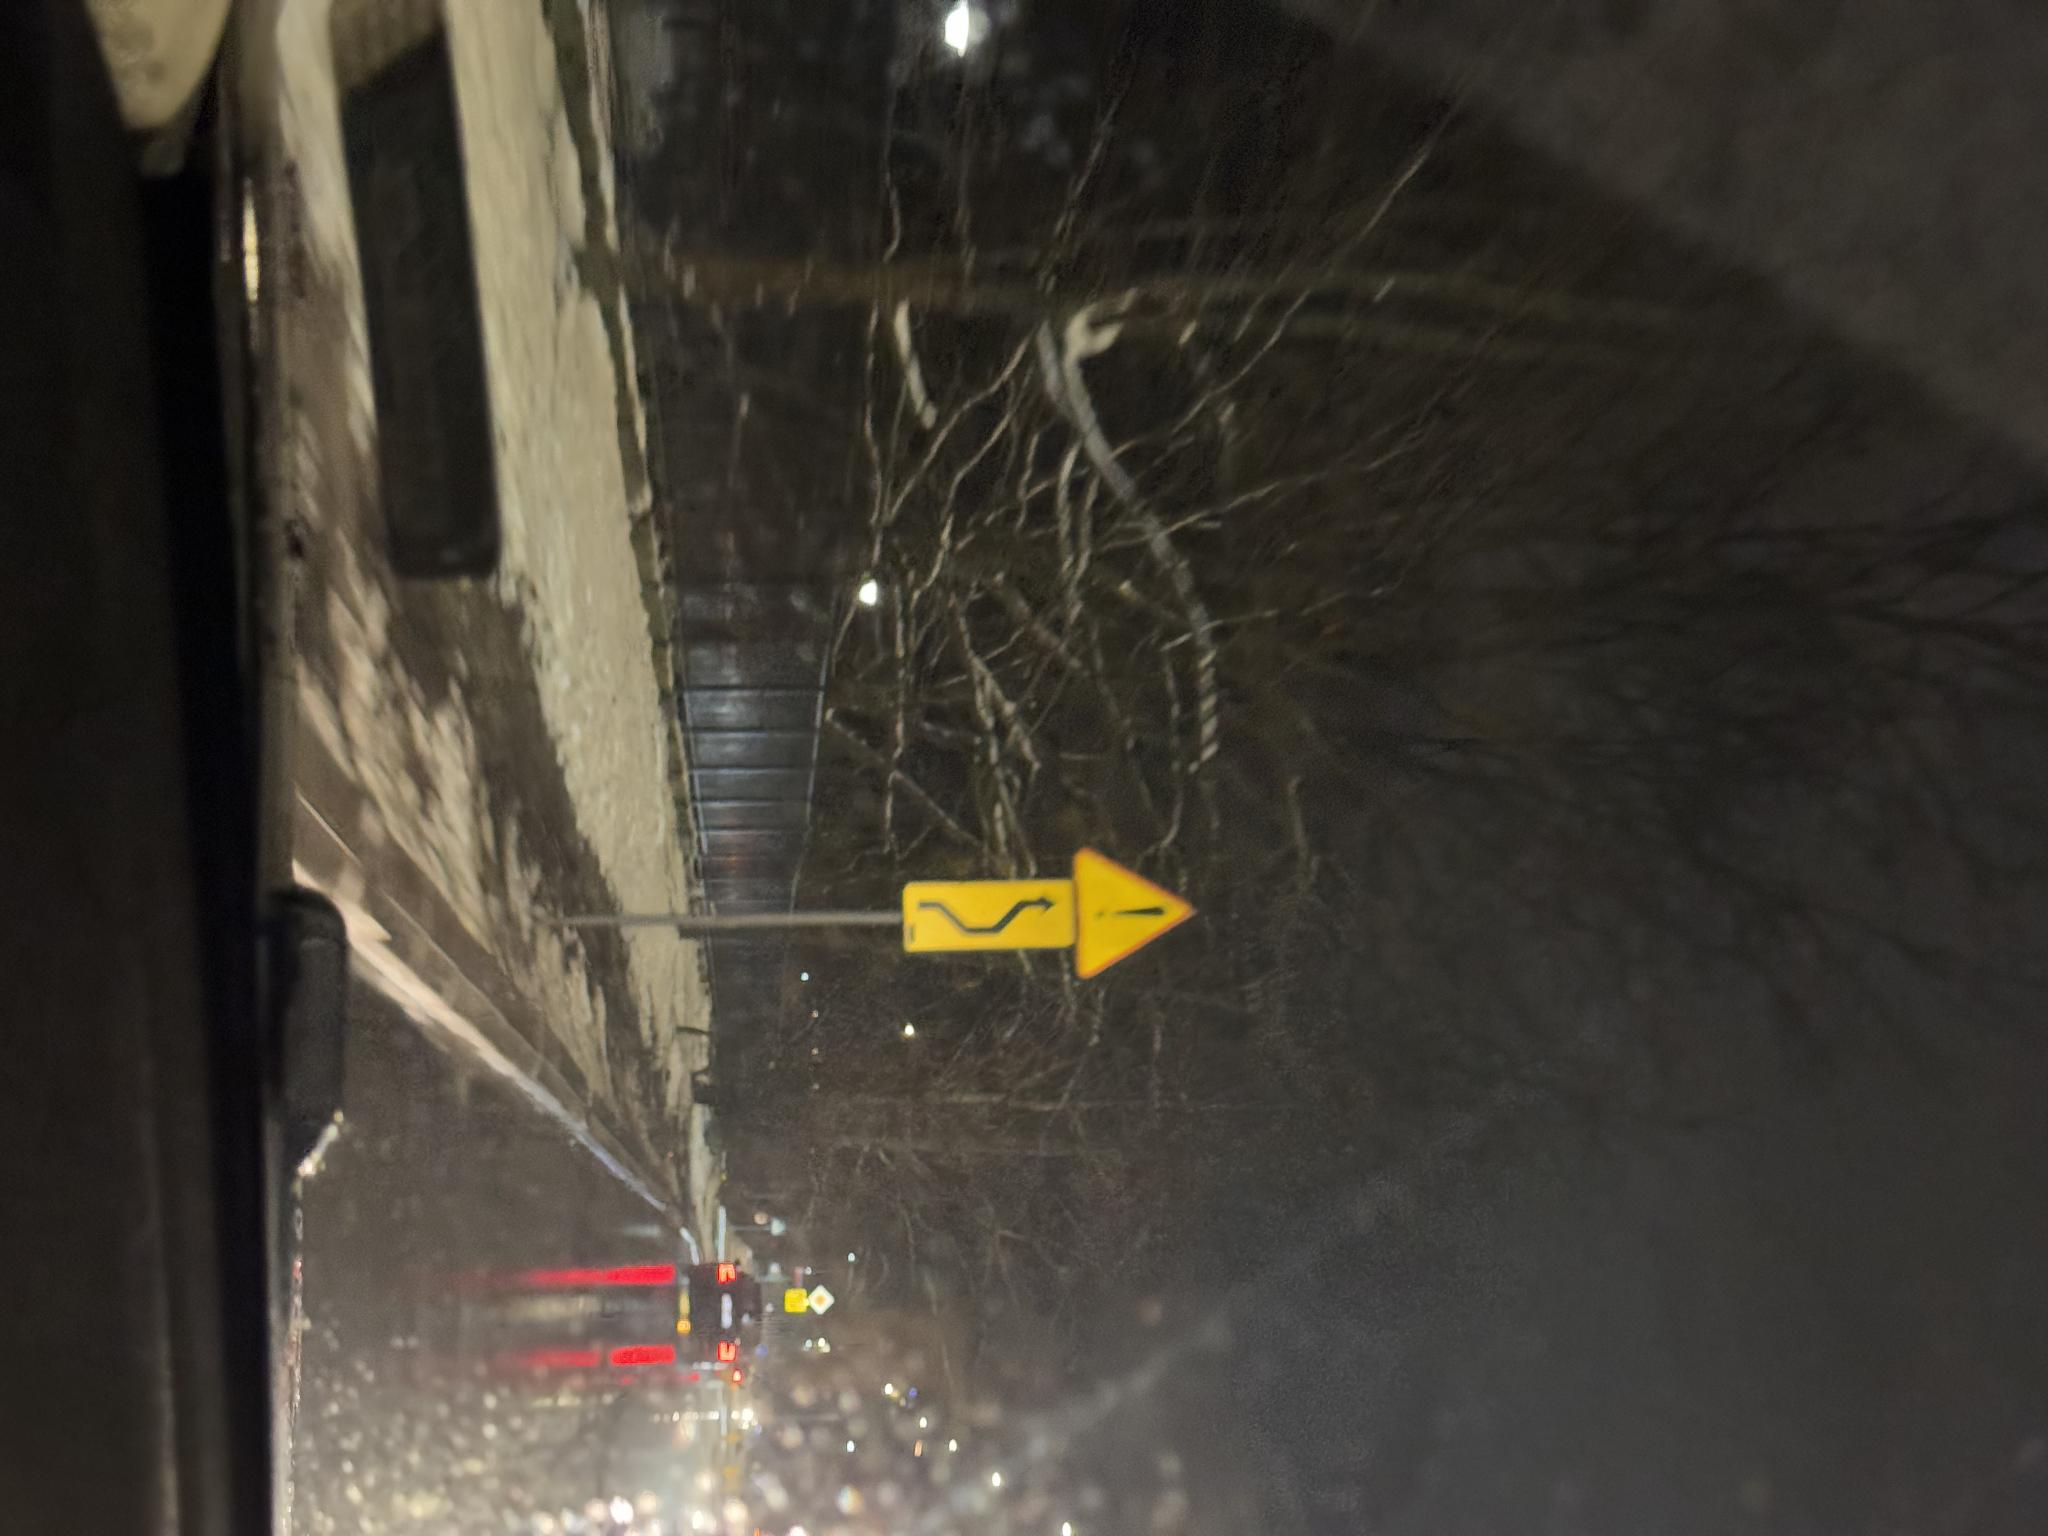information: (1796, 1213, 1827, 1241)
other: (1392, 973, 1463, 1147), (1801, 1241, 1825, 1263)
warning: (1358, 850, 1493, 975)
